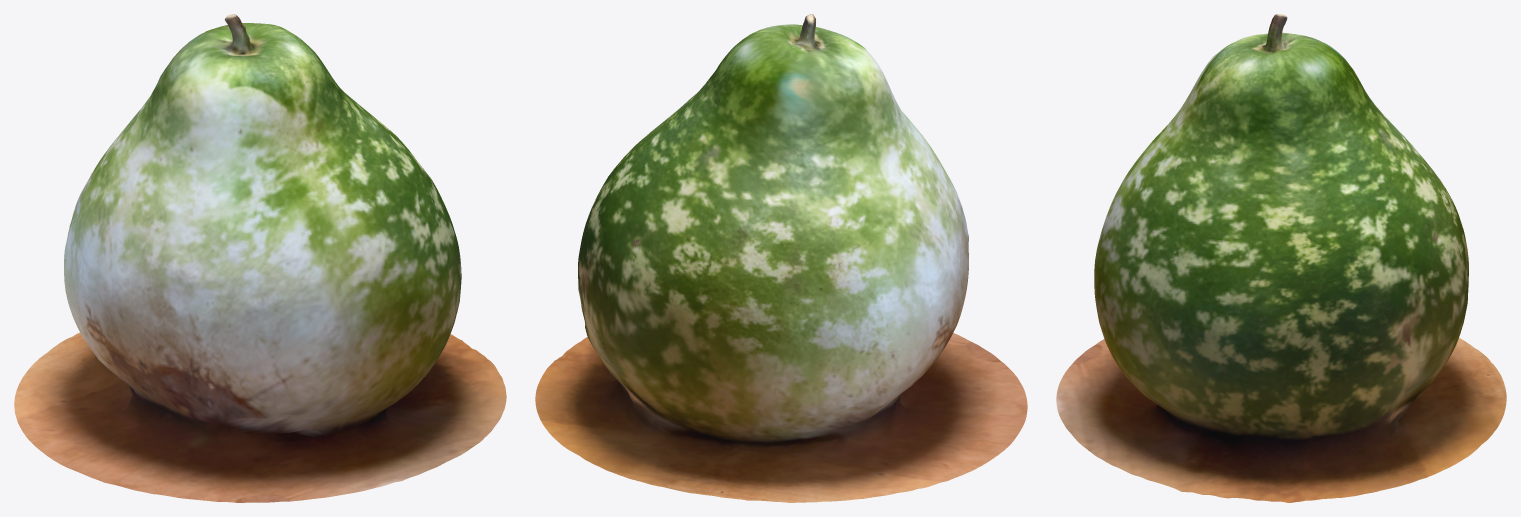
File: yugao.glb
3 views of the same model, side by side, from view 1: azimuth 30°, elevation 25°; view 2: azimuth 150°, elevation 25°; view 3: azimuth 270°, elevation 25° (orthographic). The views are drawn at different scales.
Visible parts, largest first — view 1: Object_2; view 2: Object_2; view 3: Object_2.
Part boxes in pixels (x1,y1,x2,y2): Object_2: (14, 14, 506, 502); Object_2: (535, 14, 1027, 502); Object_2: (1056, 14, 1506, 502).
Bounding box in the file's own units: 0.3393 × 0.2987 × 0.3236.
Materials: 1 (1 with a texture image).
